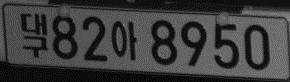0: (243, 23, 270, 70)
2: (82, 15, 108, 62)
5: (213, 23, 239, 68)
8: (150, 19, 178, 65), (51, 14, 78, 59)
9: (180, 20, 207, 66)
대구_V: (20, 12, 48, 58)
아: (110, 20, 138, 60)
